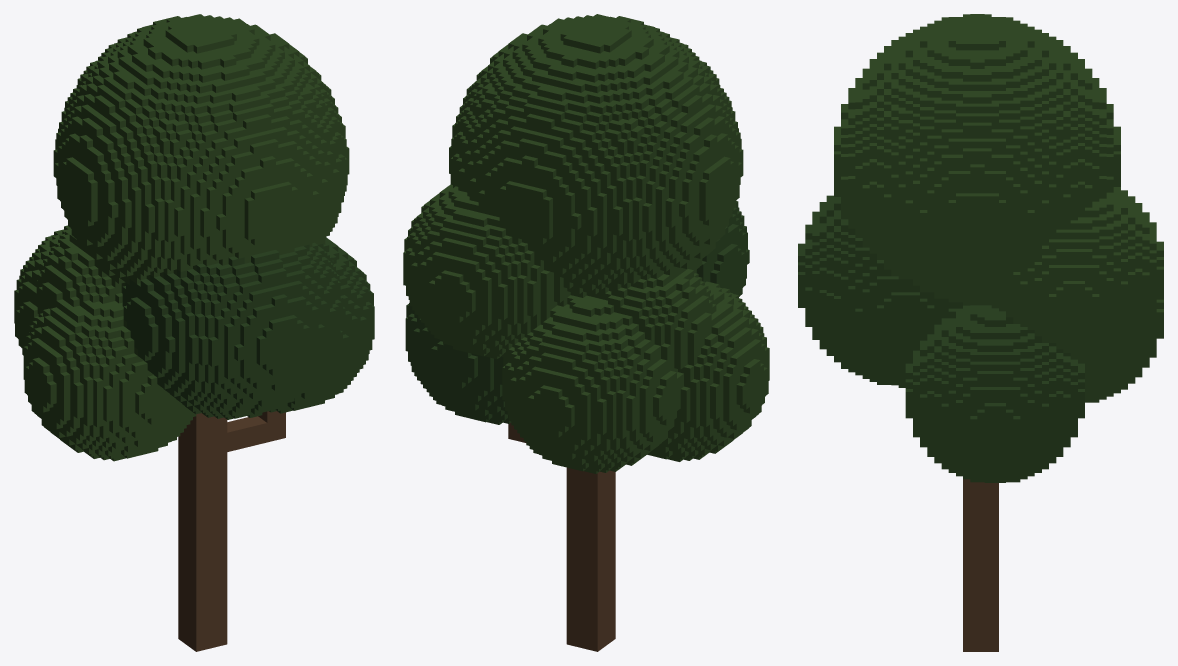
Rendered from Tree1.obj.
3 views of the same model, side by side, from view 1: azimuth 30°, elevation 25°; view 2: azimuth 150°, elevation 25°; view 3: azimuth 270°, elevation 25° (orthographic).
Bounding box in the file's own units: 5.3 × 9.4 × 5.1.
Materials: 1 (1 with a texture image).
